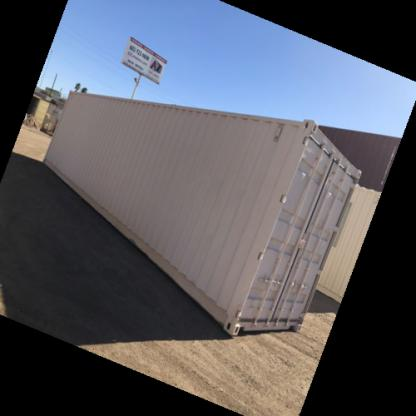Damage: (202, 163, 238, 207)
